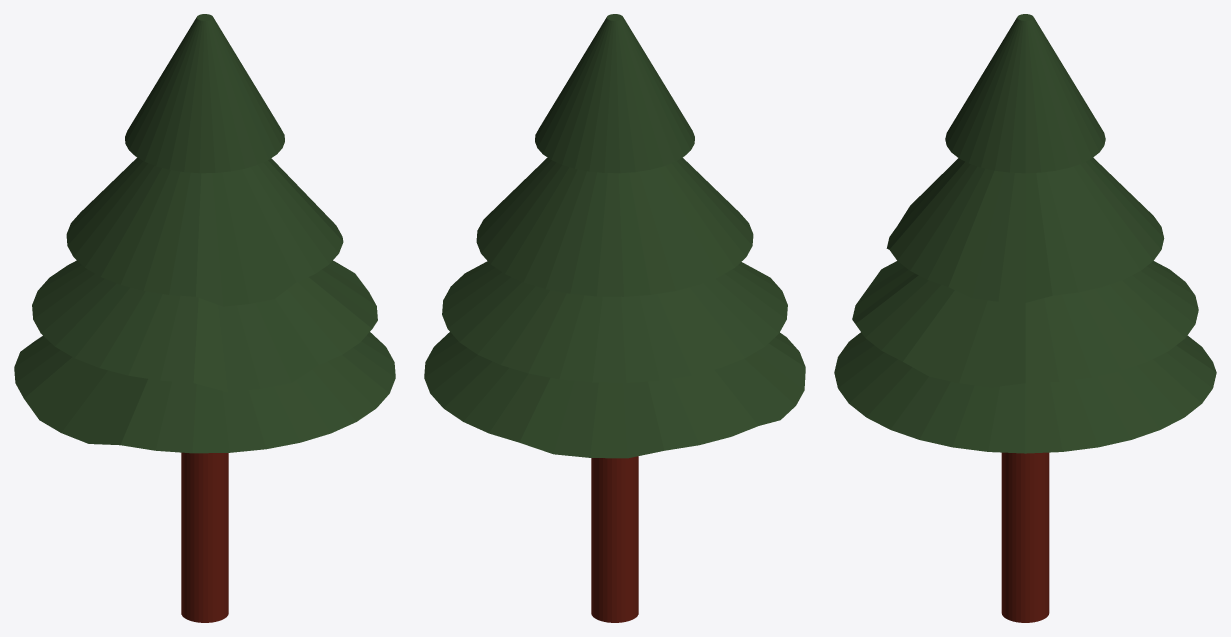
The model's file is pinetreekoyu.fbx.
3 views of the same model, side by side, from view 1: azimuth 30°, elevation 25°; view 2: azimuth 150°, elevation 25°; view 3: azimuth 270°, elevation 25° (orthographic).
Parts seen in each view (by area): view 1: Cylinder; view 2: Cylinder; view 3: Cylinder.
Part boxes in pixels (<box>): Cylinder: <box>14,14,395,622</box>; Cylinder: <box>424,14,805,622</box>; Cylinder: <box>834,14,1216,622</box>.
Size of the model in its own units: 772 by 1326 by 772.
